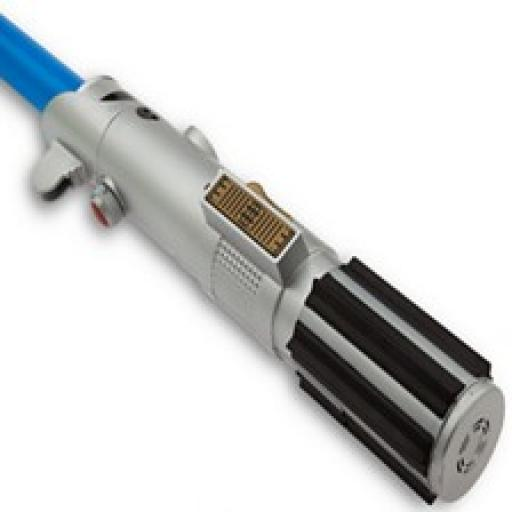lightsaber: (0, 12, 506, 499)
